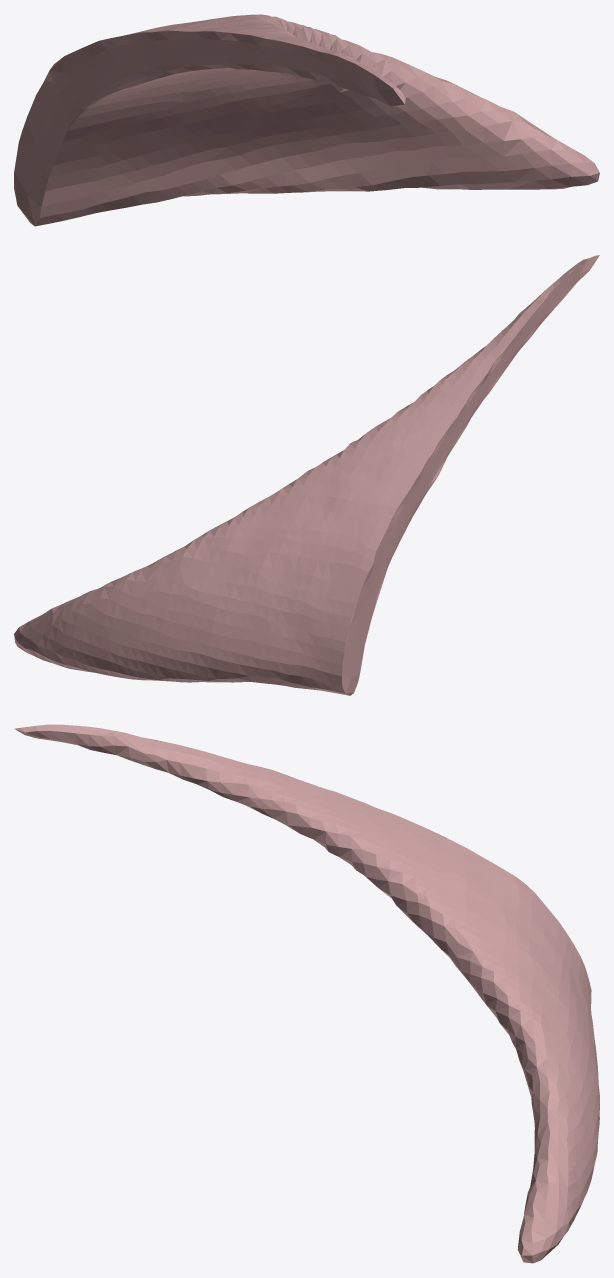
Rendered from Commissure_of_fornix2.obj.
3 views of the same model, one above another, from view 1: azimuth 30°, elevation 25°; view 2: azimuth 150°, elevation 25°; view 3: azimuth 270°, elevation 25° (orthographic). The views are drawn at different scales.
Visible parts, largest first — view 1: obj0; view 2: obj0; view 3: obj0.
Boxes of the visible parts, left/top/right/bottom form: obj0: left=14, top=14, right=599, bottom=226; obj0: left=14, top=255, right=599, bottom=695; obj0: left=14, top=724, right=599, bottom=1263.
Bounding box in the file's own units: 11.51 × 9.61 × 14.59.
Materials: 1 (1 with a texture image).
